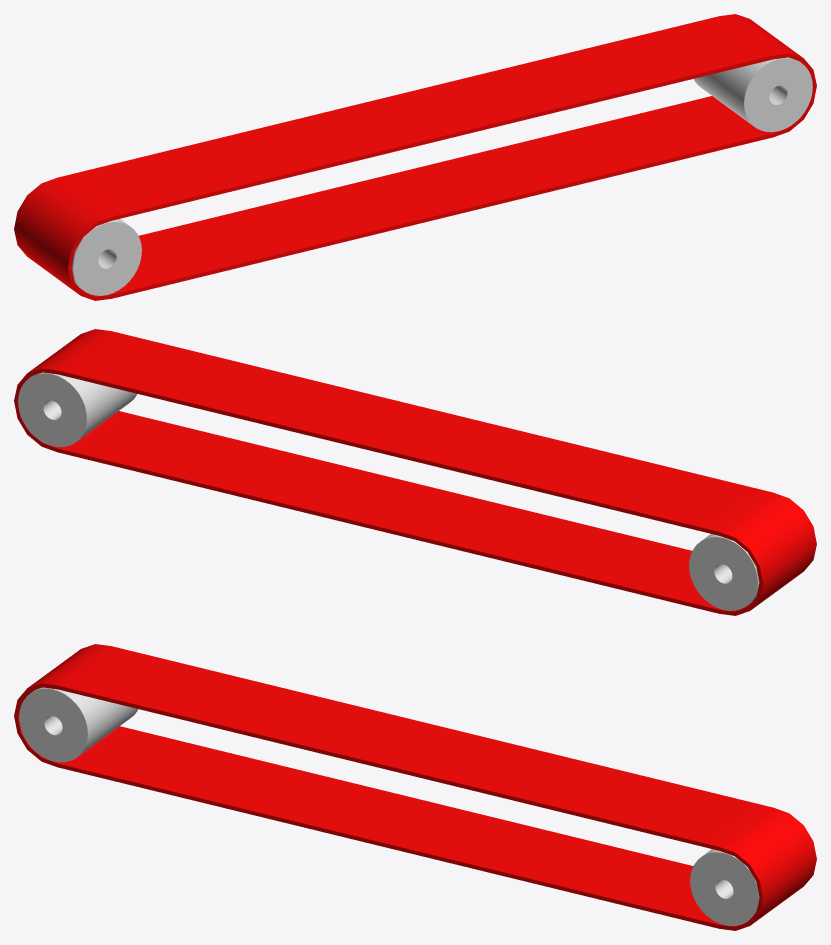
File: conv.fbx
3 renders of one model, top to bottom at view 1: azimuth 30°, elevation 25°; view 2: azimuth 150°, elevation 25°; view 3: azimuth 330°, elevation 25°, orthographic.
Parts seen in each view (by area): view 1: Cube, Tube_1, Tube; view 2: Cube, Tube_1, Tube; view 3: Cube, Tube, Tube_1.
Boxes of the visible parts, <box> form: Cube: <box>14,14,816,300</box>; Tube_1: <box>694,57,812,132</box>; Tube: <box>71,219,141,295</box>; Cube: <box>14,329,816,615</box>; Tube_1: <box>18,372,136,447</box>; Tube: <box>689,534,759,610</box>; Cube: <box>14,644,816,930</box>; Tube: <box>19,687,138,762</box>; Tube_1: <box>690,849,759,925</box>.
Size of the model in its own units: 402 by 42 by 50.2.
